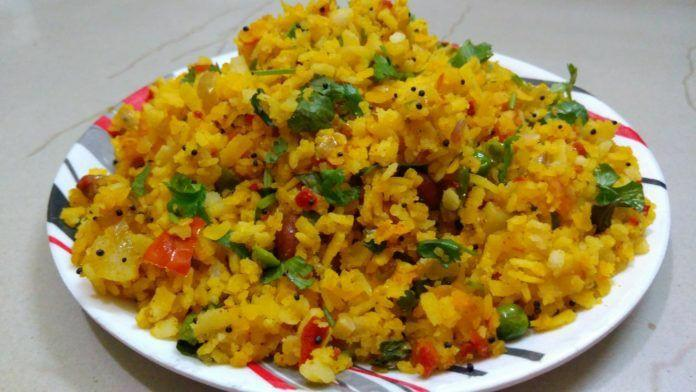Poha: (60, 0, 656, 383)
